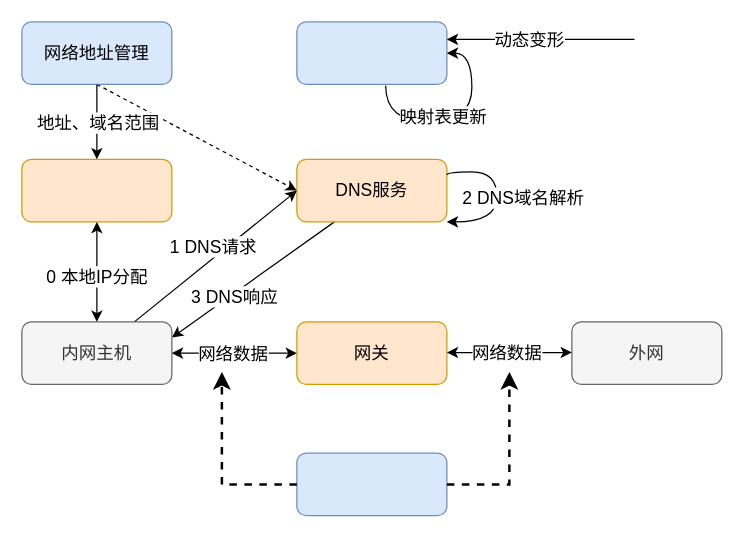
Image size: 744x538. Some labels were removed from this diagram. Each missing label, with the centre of its shape:
"DHCP服务" belongs at (96,190).
"动态网络映射" belongs at (371,52).
"网络状态感知" belongs at (371,484).
